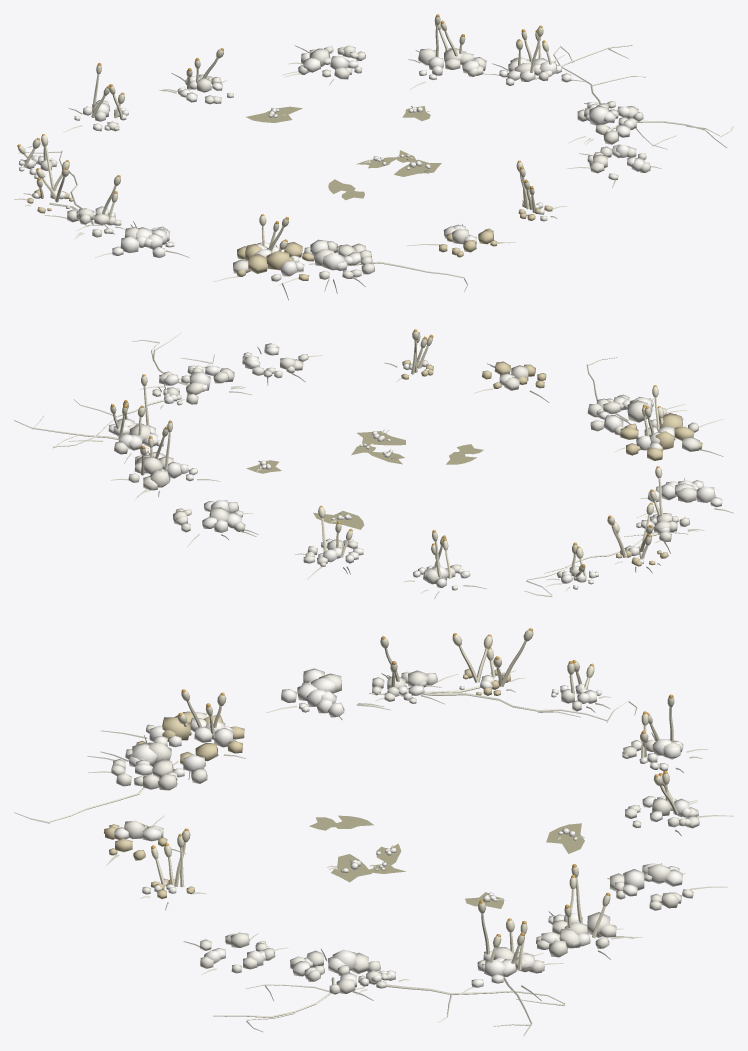
Rendered from fungus_floor.glb.
The picture shows the model from 3 angles, top to bottom: view 1: azimuth 30°, elevation 25°; view 2: azimuth 150°, elevation 25°; view 3: azimuth 270°, elevation 25°; orthographic projection. The views are drawn at different scales.
Parts seen in each view (by area): view 1: teil1, teil2, teil5, teil7, teil0, teil4, teil3; view 2: teil2, teil1, teil5, teil7, teil0, teil4, teil3; view 3: teil2, teil1, teil5, teil7, teil0, teil4, teil3.
Boxes of the visible parts, bbox=[...] form: teil1: bbox=[19, 49, 644, 276]; teil2: bbox=[40, 45, 650, 281]; teil5: bbox=[18, 16, 551, 251]; teil7: bbox=[27, 189, 552, 280]; teil0: bbox=[246, 106, 441, 200]; teil4: bbox=[18, 45, 733, 292]; teil3: bbox=[14, 45, 661, 300]; teil2: bbox=[114, 343, 699, 584]; teil1: bbox=[108, 343, 722, 590]; teil5: bbox=[110, 330, 663, 580]; teil7: bbox=[401, 360, 702, 566]; teil0: bbox=[246, 431, 483, 529]; teil4: bbox=[14, 332, 687, 596]; teil3: bbox=[68, 347, 733, 599]; teil2: bbox=[111, 670, 699, 994]; teil1: bbox=[114, 668, 691, 987]; teil5: bbox=[151, 629, 678, 969]; teil7: bbox=[103, 668, 510, 898]; teil0: bbox=[309, 815, 584, 908]; teil4: bbox=[14, 685, 637, 1036]; teil3: bbox=[87, 670, 733, 1000].
Bounding box in the file's own units: 1.46 × 0.1388 × 1.21.
